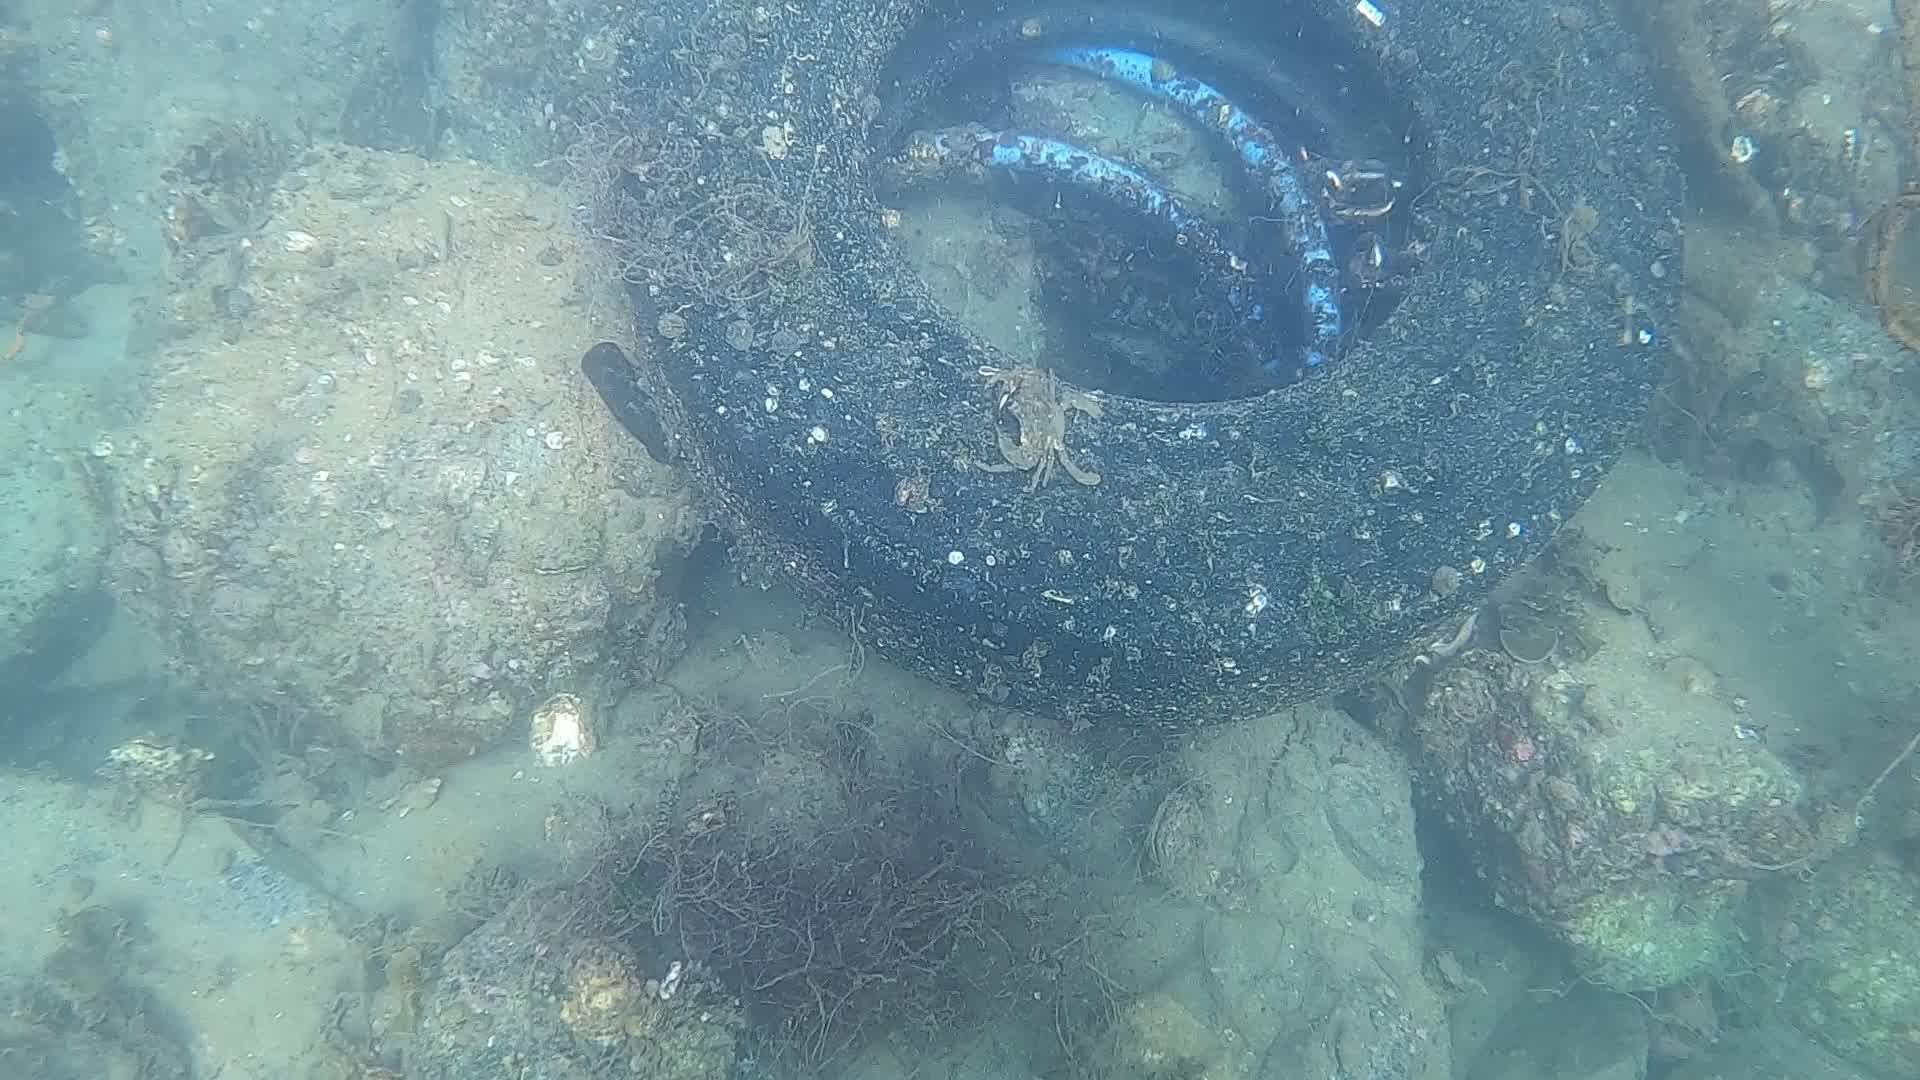tire: (601, 0, 1693, 713)
